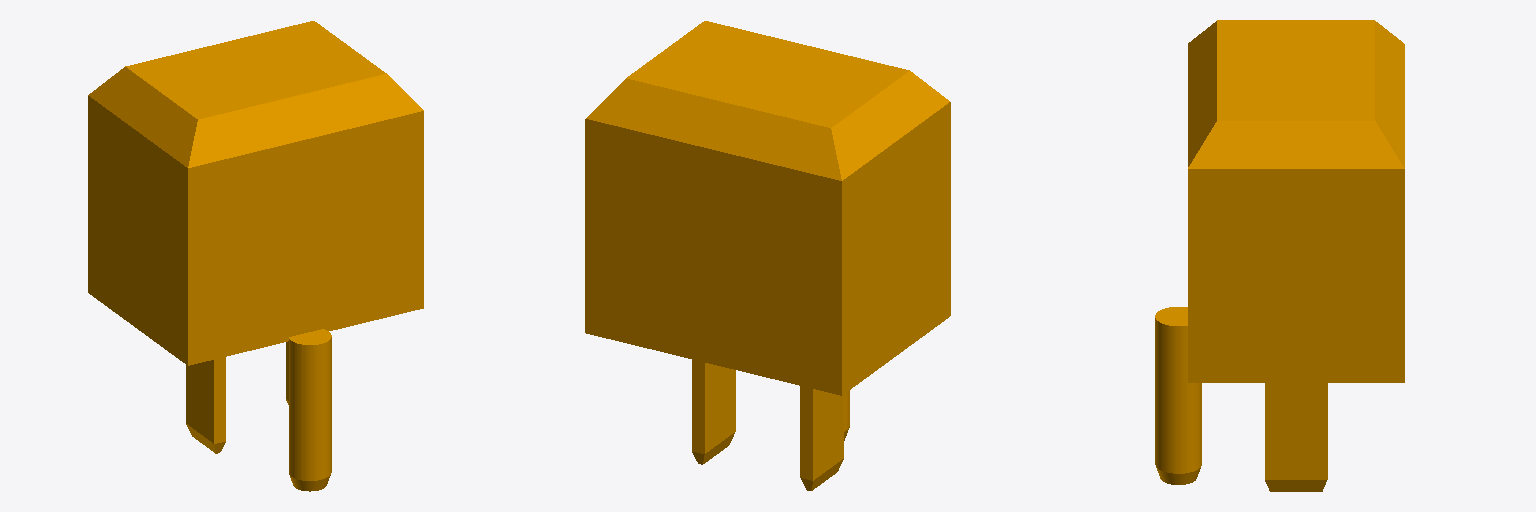
The robot description file, URDF, robot "nema_5_15_plug":
<?xml version="1.0"?>
<robot name="nema_5_15_plug">
  <link name="nema_5_15_plug">
    <visual><geometry><mesh filename="../mesh/nema_5_15/asset_plug.obj"/></geometry></visual>
    <collision><geometry><mesh filename="../mesh/nema_5_15/asset_plug.obj"/></geometry></collision>
  </link>
</robot>

--- Facts derived from the render (not from the file) ---
Views: 3 orthographic renders of the robot side by side, from view 1: azimuth 30°, elevation 25°; view 2: azimuth 150°, elevation 25°; view 3: azimuth 270°, elevation 25°.
Robot: nema_5_15_plug — 1 links, 0 joints (none); root link nema_5_15_plug; default pose: every joint at zero.
Links seen in each view (by area): view 1: nema_5_15_plug; view 2: nema_5_15_plug; view 3: nema_5_15_plug.
Link boxes in pixels (<box>): nema_5_15_plug: <box>88,21,423,491</box>; nema_5_15_plug: <box>585,21,950,490</box>; nema_5_15_plug: <box>1155,20,1404,491</box>.
Bounding box of the posed robot: 0.03 × 0.0253 × 0.0455 m (x, y, z).
Meshes: 1 distinct files referenced, 1 mesh visuals loaded (1 OBJ).
